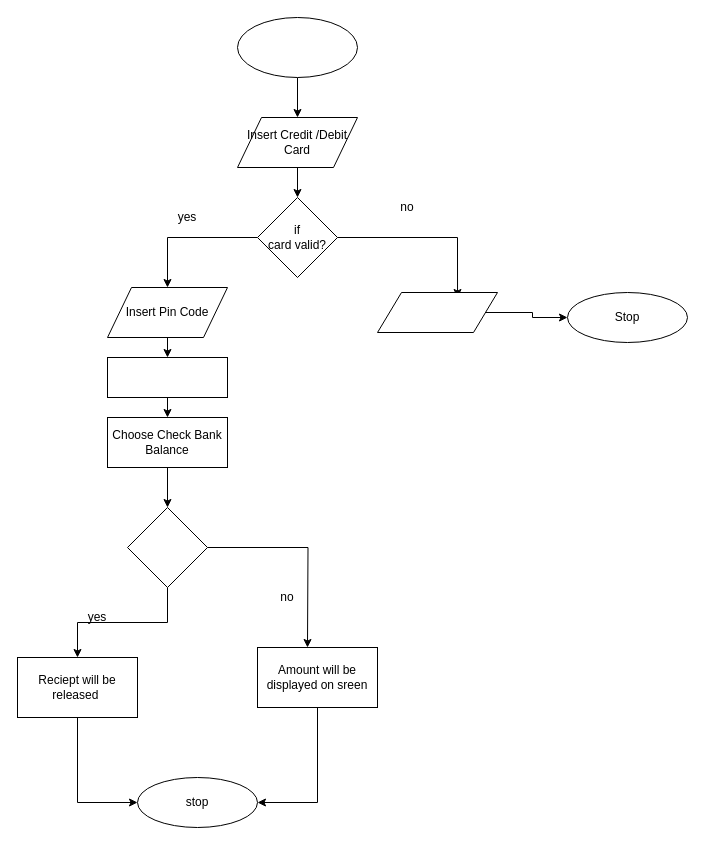
Some shapes in this 705 by 845 pixel diagram are drawn without their labels. Here are the shapes that lost their labels. From the top down, the centre of each, then its label:
At point (297, 47): "Start".
At point (437, 312): "Display Error".
At point (167, 377): "Select Language".
At point (167, 547): "Receipt?".
